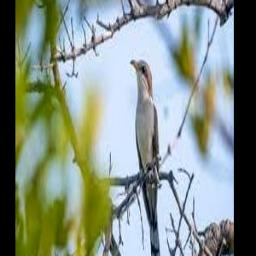Cuckoo: (130, 58, 161, 256)
